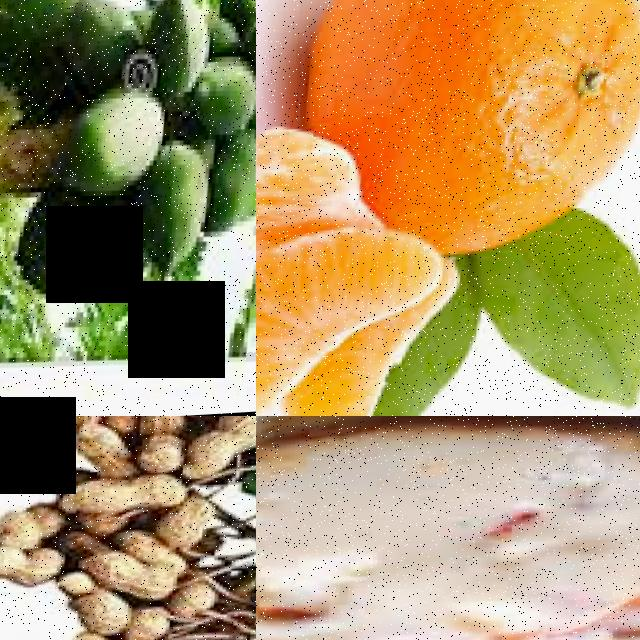orange: (364, 0, 640, 252)
pawpaw: (67, 94, 172, 196), (142, 156, 214, 279), (150, 0, 221, 96)
peanuts: (63, 472, 190, 519), (77, 551, 163, 600), (0, 543, 72, 594), (163, 501, 222, 551), (0, 502, 60, 548), (73, 593, 135, 636), (219, 416, 256, 455), (55, 416, 121, 432)
